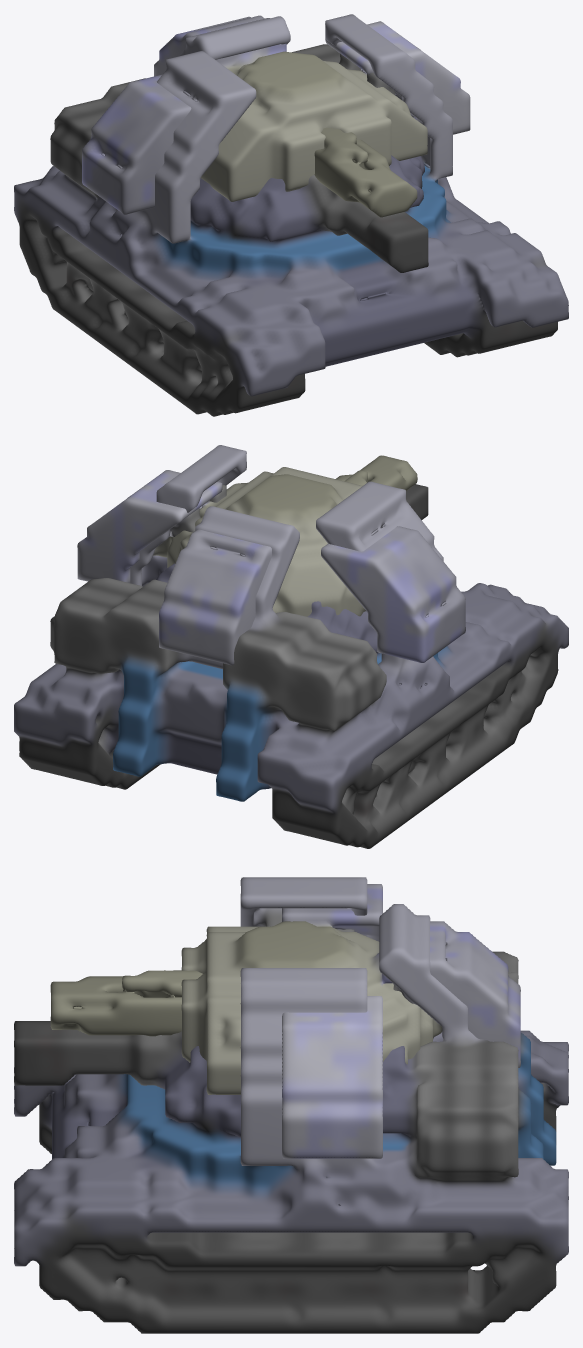
File: mirage_tank.glb
3 views of the same model, one above another, from view 1: azimuth 30°, elevation 25°; view 2: azimuth 150°, elevation 25°; view 3: azimuth 270°, elevation 25° (orthographic). The views are drawn at different scales.
Visible parts, largest first — view 1: mirage_tank; view 2: mirage_tank; view 3: mirage_tank.
Part boxes in pixels (box(x1,y1,x2,y2)): mirage_tank: box(14, 14, 568, 416); mirage_tank: box(14, 445, 568, 848); mirage_tank: box(14, 877, 568, 1333).
Bounding box in the file's own units: 3.08 × 2.29 × 3.66.
